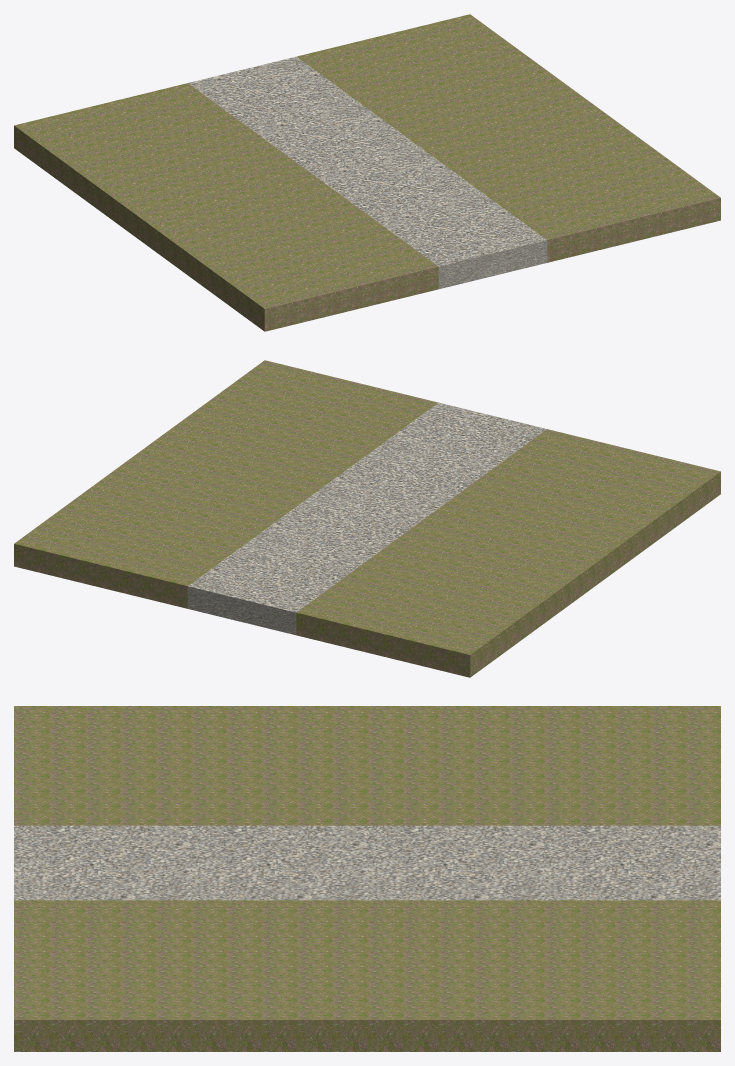
The model's file is Intro_Ground.fbx.
3 views of the same model, one above another, from view 1: azimuth 30°, elevation 25°; view 2: azimuth 150°, elevation 25°; view 3: azimuth 270°, elevation 25° (orthographic). The views are drawn at different scales.
Parts seen in each view (by area): view 1: GroundLeft, GroundRight, Road; view 2: GroundLeft, GroundRight, Road; view 3: GroundRight, GroundLeft, Road.
Boxes of the visible parts, bbox=[...] form: GroundLeft: bbox=[14, 83, 438, 331]; GroundRight: bbox=[296, 14, 720, 262]; Road: bbox=[188, 56, 547, 289]; GroundLeft: bbox=[296, 429, 720, 677]; GroundRight: bbox=[14, 360, 438, 608]; Road: bbox=[187, 402, 546, 635]; GroundRight: bbox=[14, 900, 720, 1051]; GroundLeft: bbox=[14, 706, 720, 825]; Road: bbox=[14, 825, 720, 900].
Size of the model in its own units: 42 by 2 by 40.
